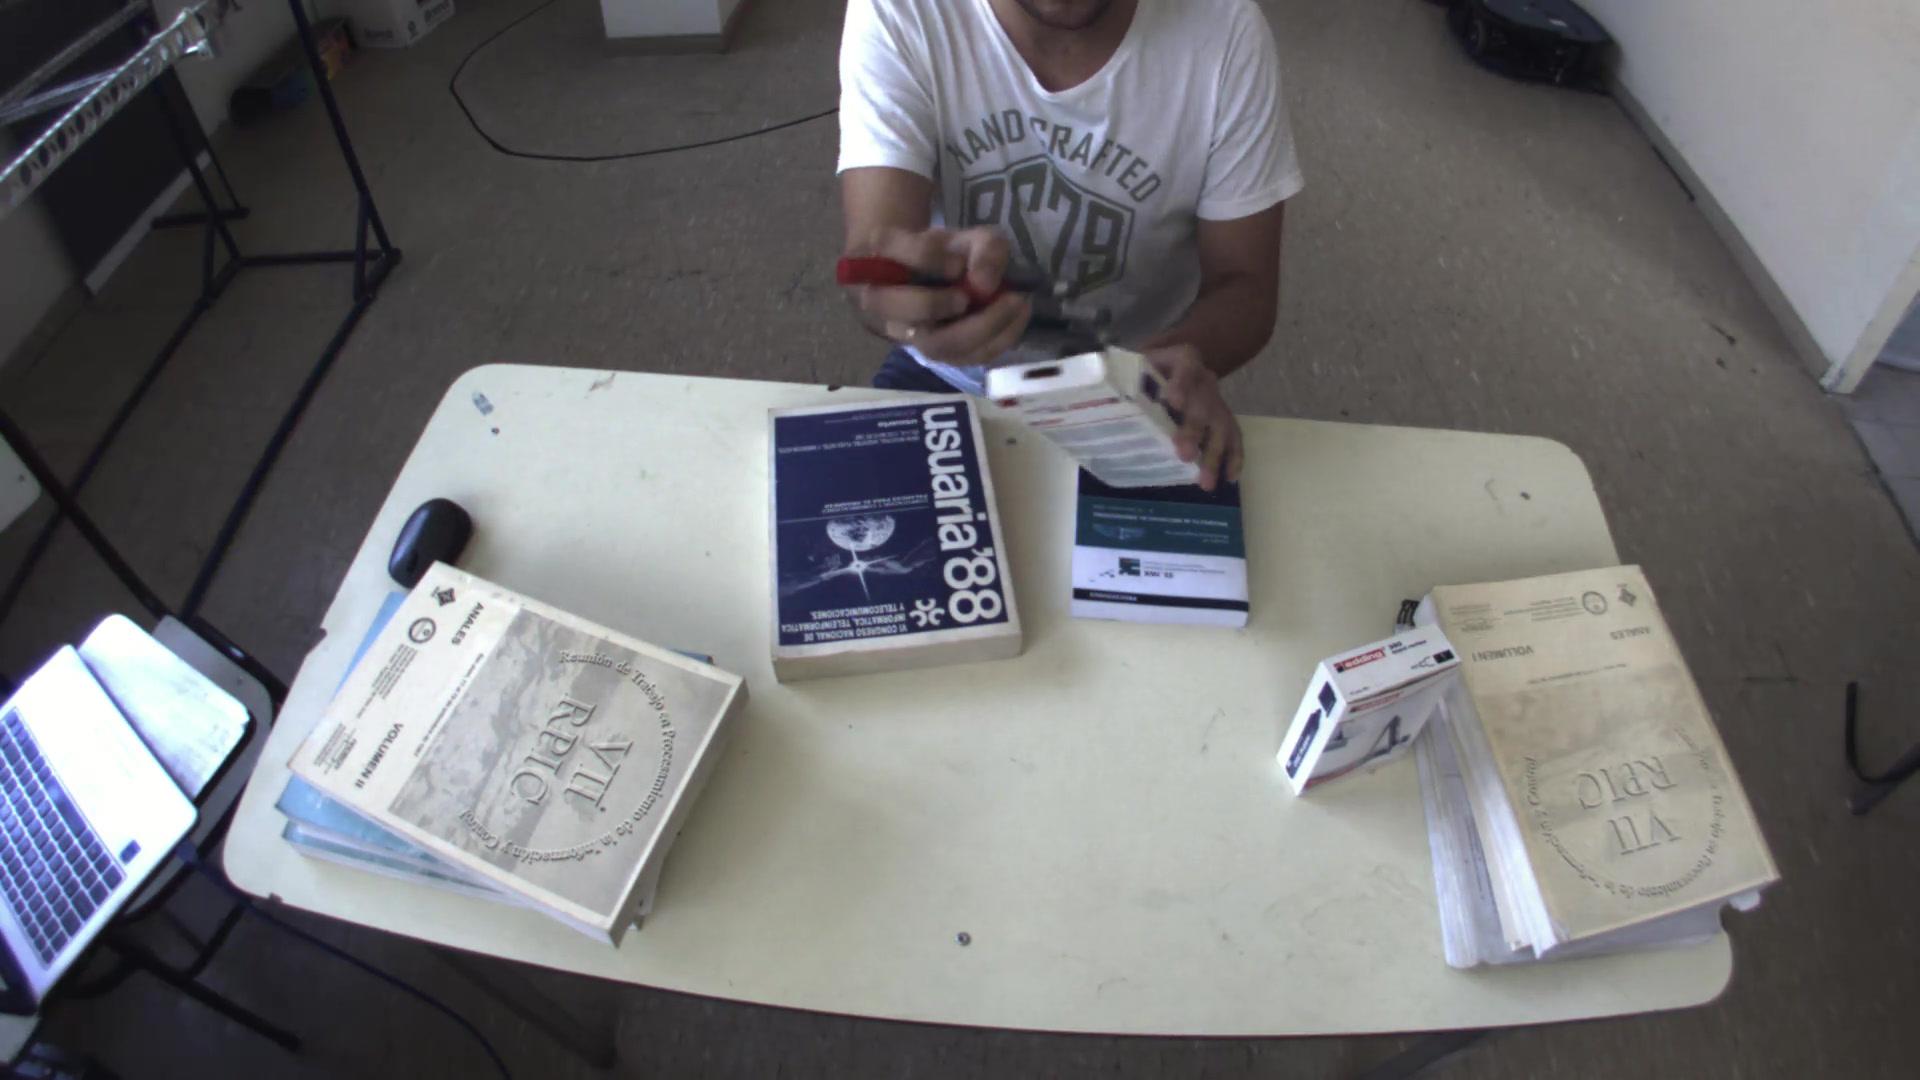hand: (831, 210, 1042, 365), (1113, 338, 1267, 495)
